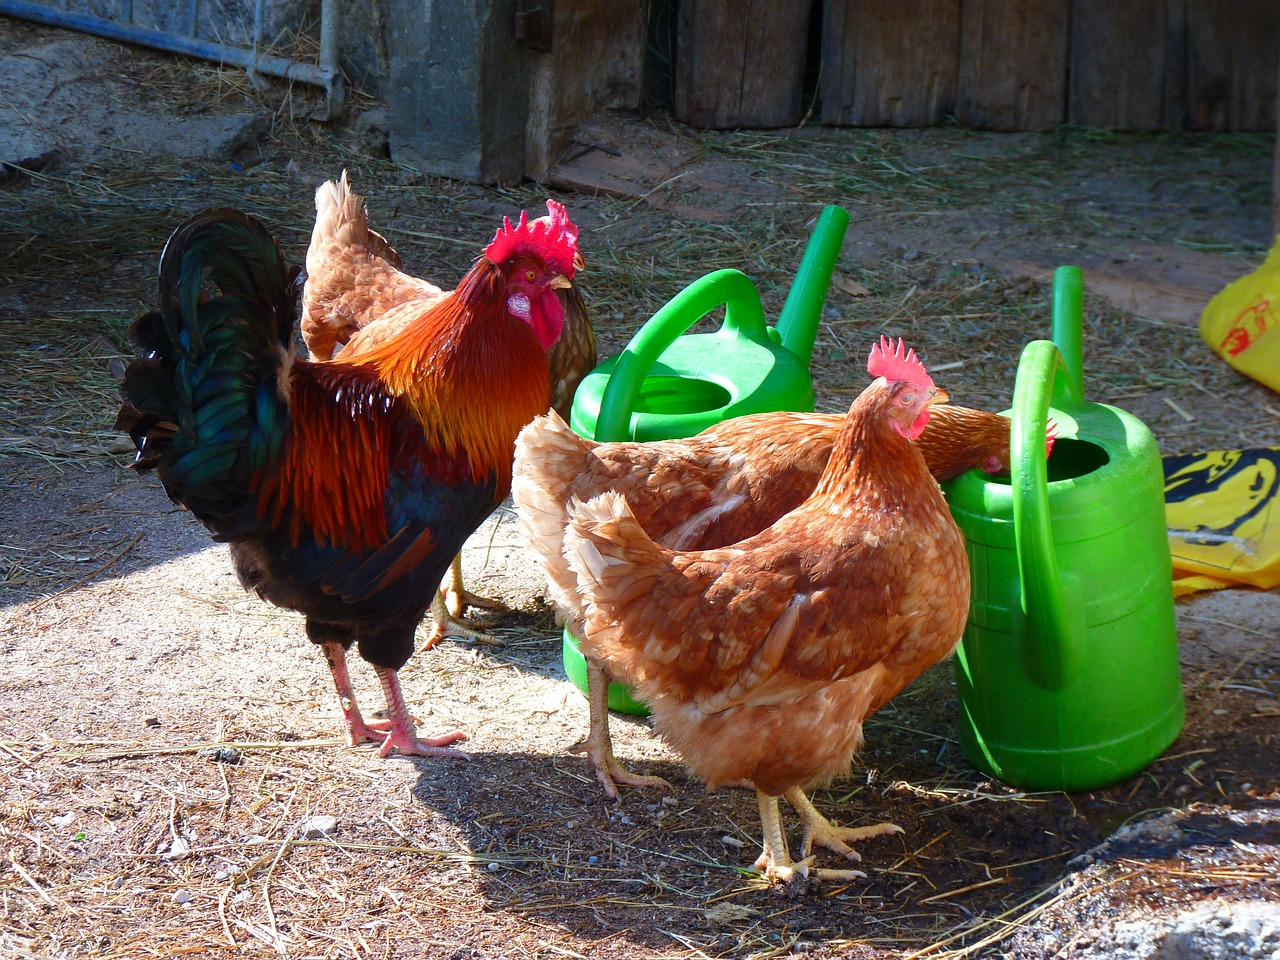chicken: (129, 181, 574, 759), (560, 331, 932, 881), (499, 353, 1091, 560)
